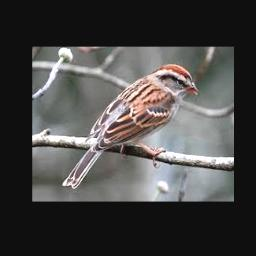Sparrow: (62, 64, 200, 189)
